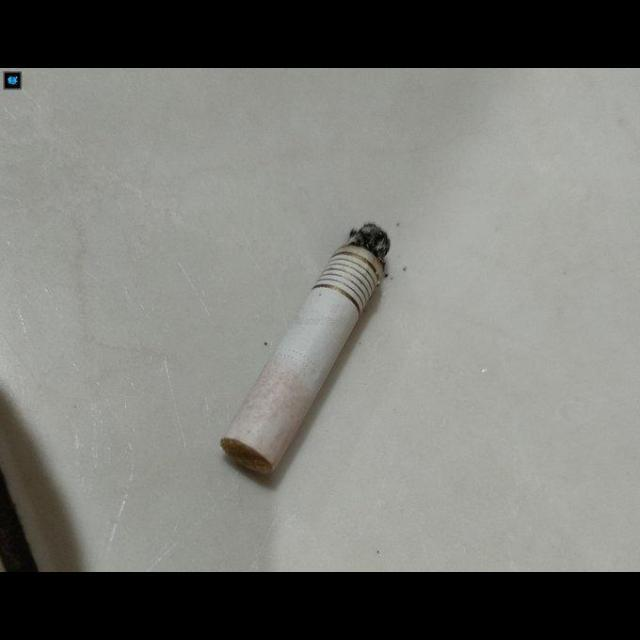rokok: (219, 219, 391, 485)
